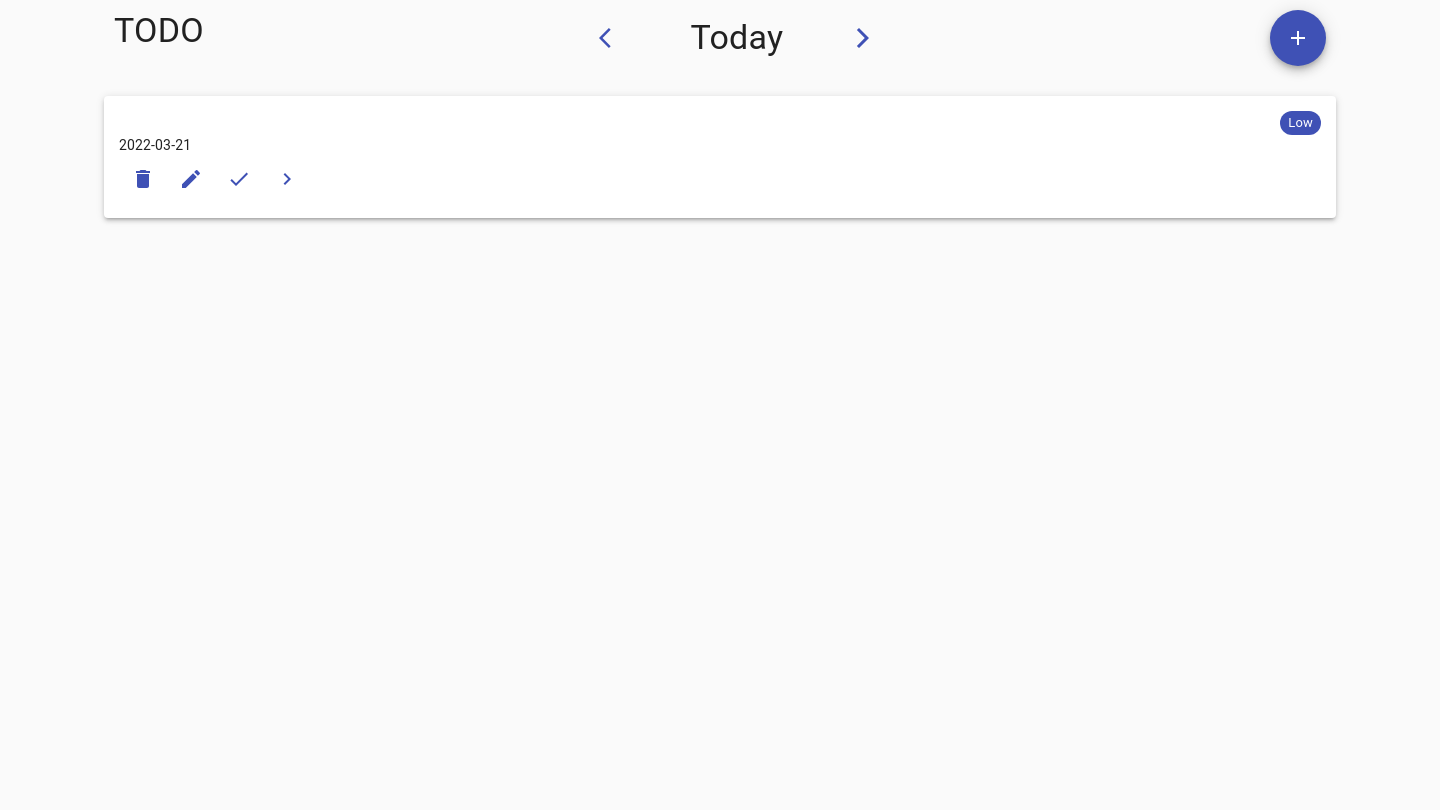
Test: App › Checking if todo will display in the todolist when the add button is clicked
Click the button with test id "fab-button".
click(1298, 38)  # box left=1270, top=10, right=1326, bottom=66
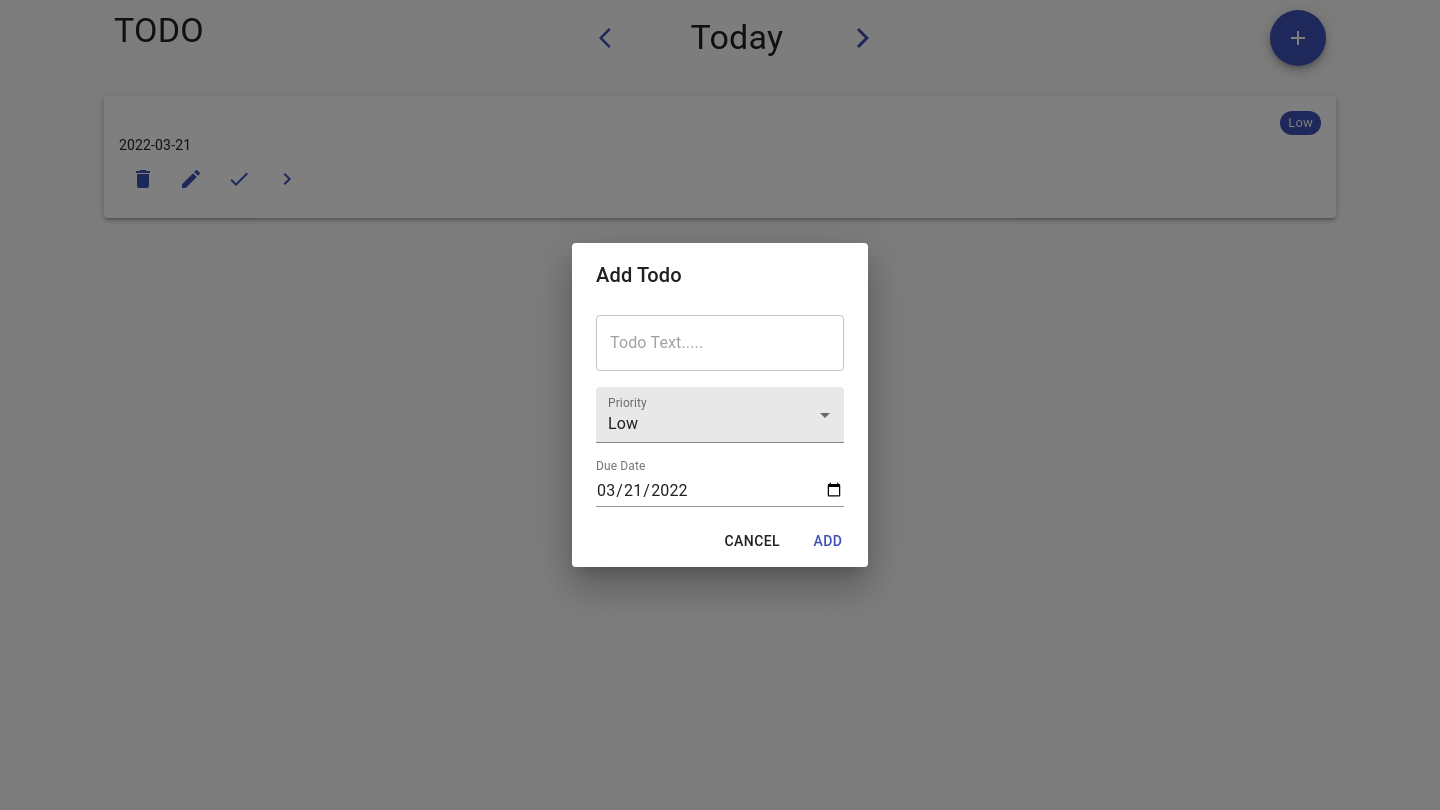
Type "Do my Chalkboard Task" into the field with placeholder "Todo Text.....".
click(720, 343); type("Do my Chalkboard Task")  # box left=596, top=315, right=844, bottom=371
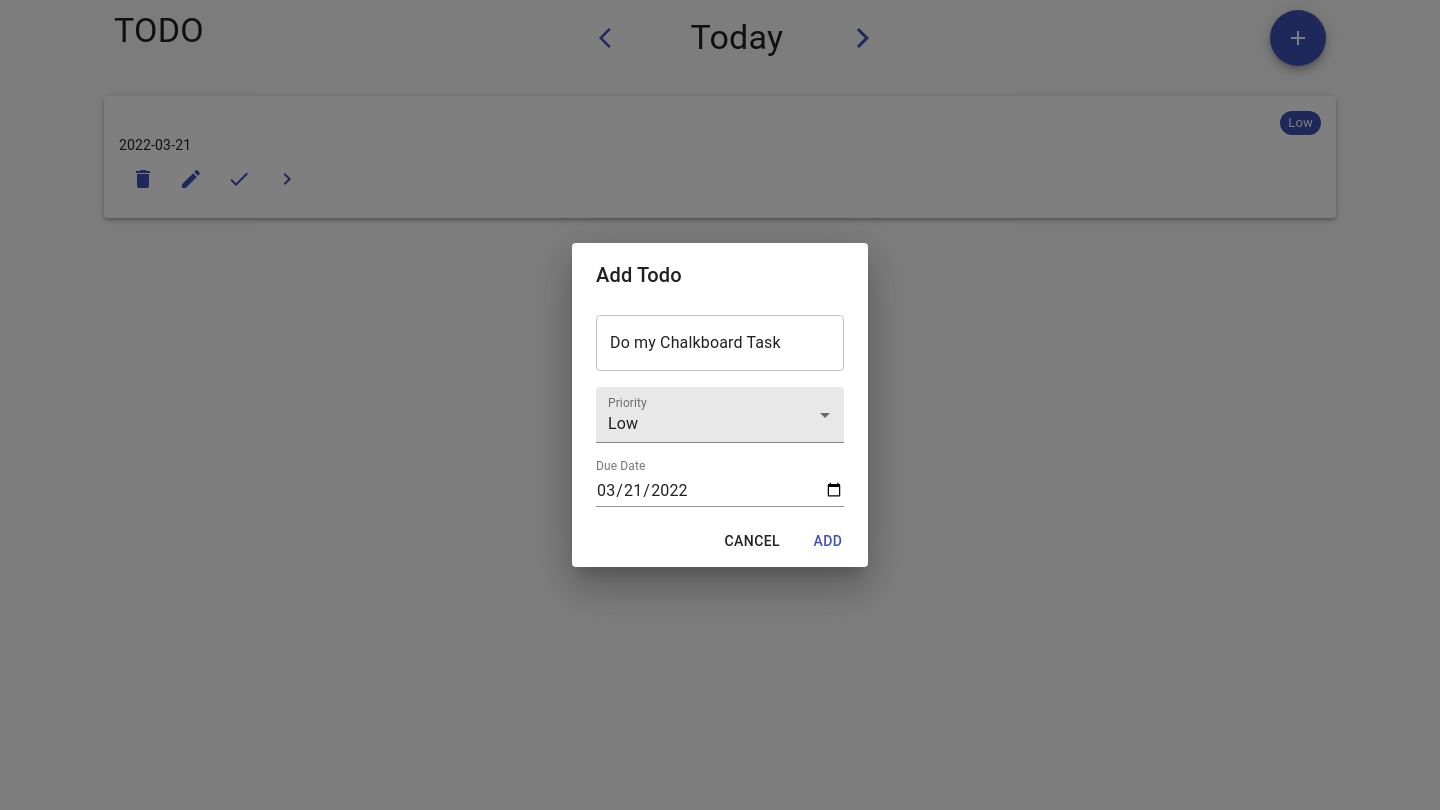
Click the button "Add".
click(828, 541)  # box left=796, top=523, right=860, bottom=559
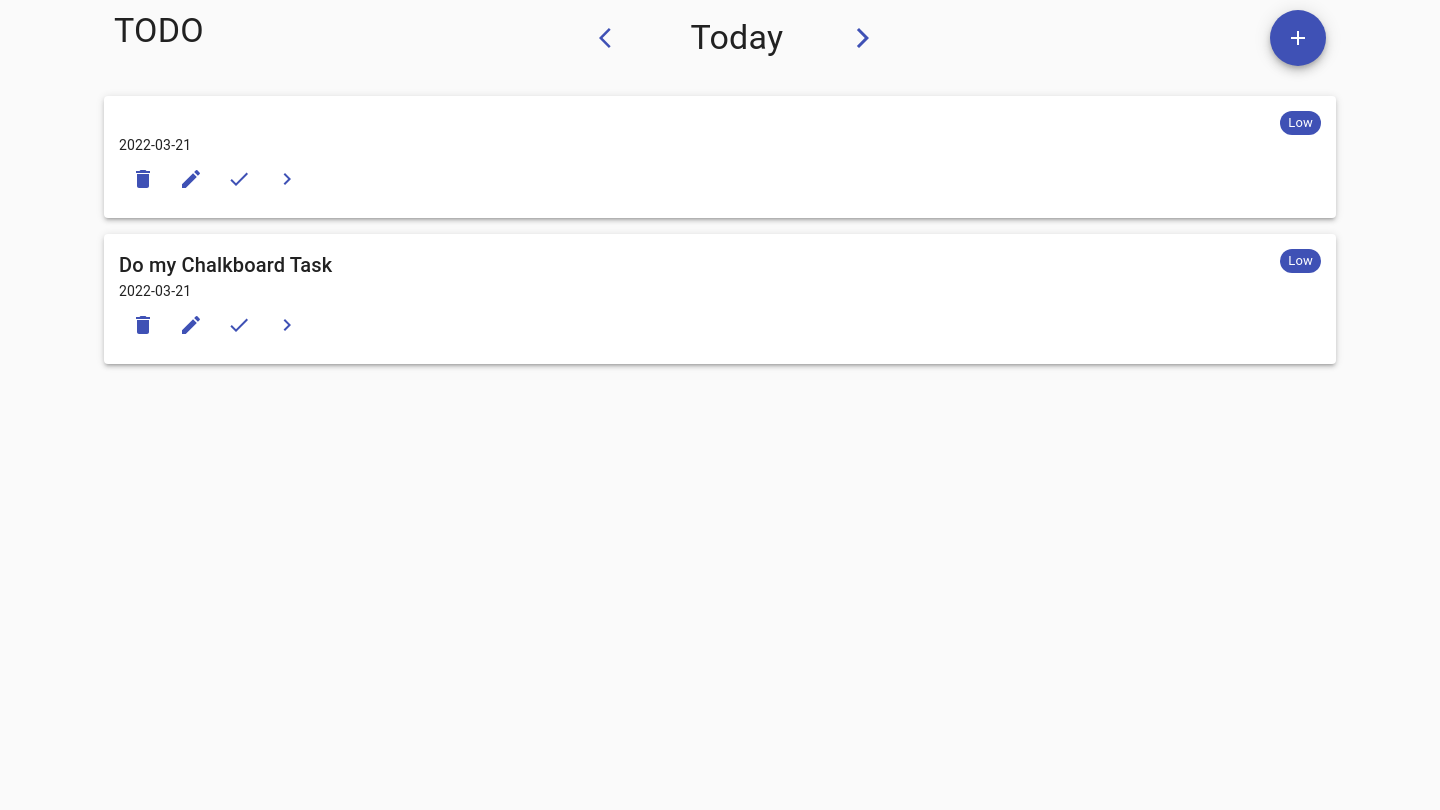
Now the heading "Do my Chalkboard Task" is shown, box left=119, top=249, right=332, bottom=281
